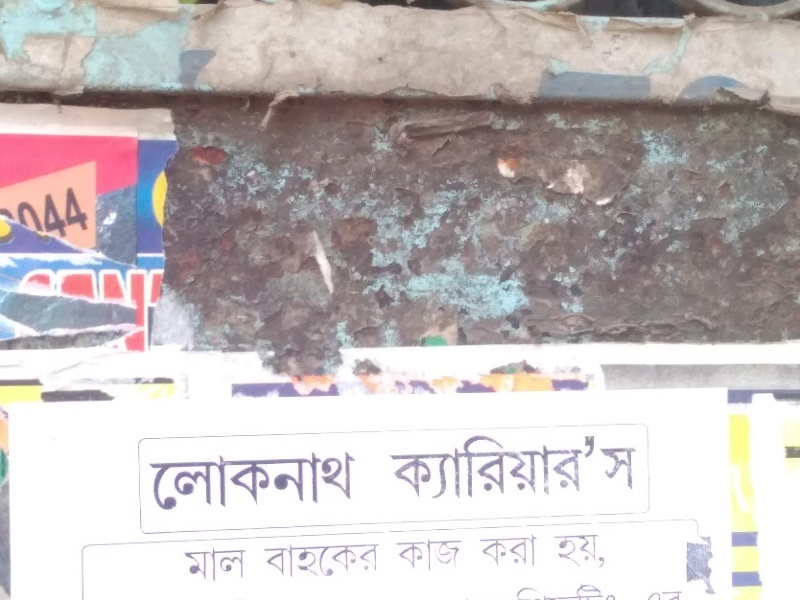text: (385, 433, 400, 501), (401, 433, 416, 501), (417, 433, 432, 501), (433, 433, 448, 501), (449, 433, 464, 501), (465, 433, 480, 501), (481, 433, 496, 501), (497, 433, 512, 501), (513, 433, 528, 501), (529, 433, 544, 501), (545, 433, 560, 501), (561, 433, 576, 501), (577, 433, 592, 501), (593, 433, 608, 501), (609, 433, 624, 501), (161, 451, 176, 510), (177, 451, 192, 510), (193, 451, 208, 510), (209, 451, 224, 510), (225, 451, 240, 510), (241, 451, 256, 510), (257, 451, 272, 510), (273, 451, 288, 510), (289, 451, 304, 510), (305, 451, 320, 510), (321, 451, 336, 510), (337, 451, 352, 510), (49, 183, 64, 242), (65, 183, 80, 242), (625, 433, 638, 501), (147, 451, 160, 510), (81, 183, 94, 242), (36, 183, 48, 242), (193, 546, 208, 585), (209, 546, 224, 585), (225, 546, 240, 585), (273, 542, 288, 579), (289, 542, 304, 579), (305, 542, 320, 579), (321, 542, 336, 579), (337, 542, 352, 579), (353, 542, 368, 579), (369, 542, 384, 579), (376, 433, 384, 501), (561, 534, 576, 570), (577, 534, 592, 570), (593, 534, 608, 570), (401, 538, 416, 572), (417, 538, 432, 572), (433, 538, 448, 572), (481, 533, 496, 567), (497, 533, 512, 567), (513, 533, 528, 567), (241, 546, 253, 585), (260, 542, 272, 579), (449, 538, 462, 572), (181, 546, 192, 585), (529, 533, 539, 567), (33, 199, 41, 231), (513, 583, 528, 599), (529, 583, 544, 599), (545, 583, 560, 599), (561, 583, 576, 599), (577, 583, 592, 599), (593, 583, 608, 599), (609, 583, 624, 599), (625, 583, 640, 599), (641, 583, 656, 599), (657, 583, 672, 599), (673, 583, 688, 599), (353, 451, 357, 510), (554, 534, 560, 570), (26, 199, 32, 231), (395, 538, 400, 572), (609, 534, 613, 570), (689, 583, 693, 599), (385, 542, 386, 579)
